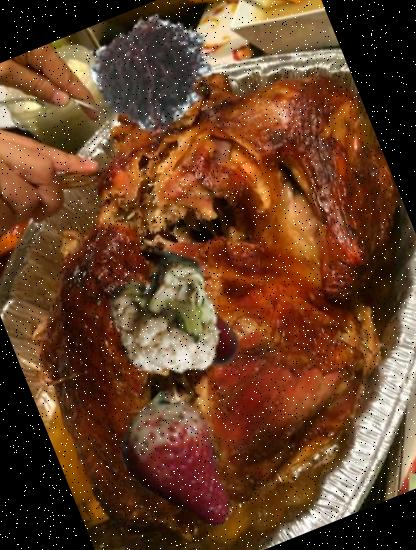Cauliflower: (83, 229, 248, 394)
Nectarine: (156, 287, 252, 383)
Rambutan: (72, 0, 239, 153)
Strawberry: (96, 373, 276, 550)
